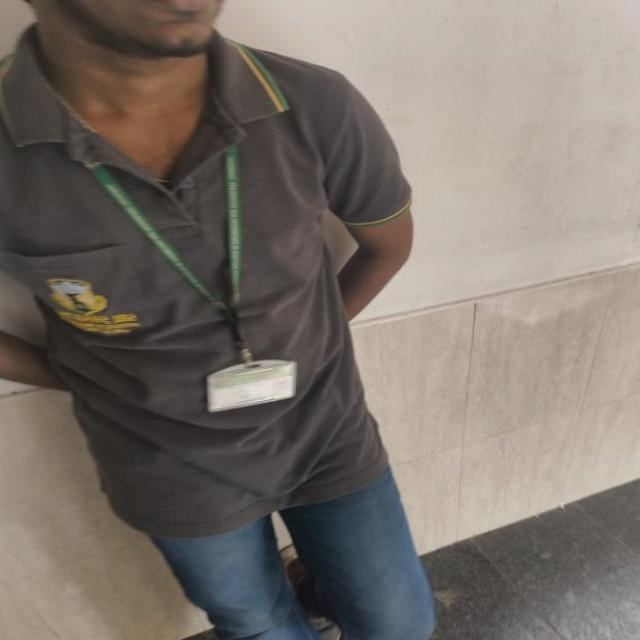ID_card: (86, 161, 295, 413)
